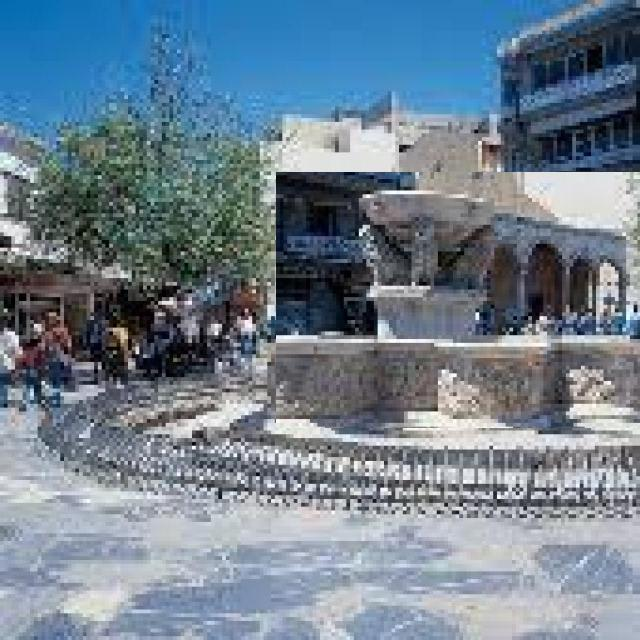Liontaria: (277, 173, 640, 429)
